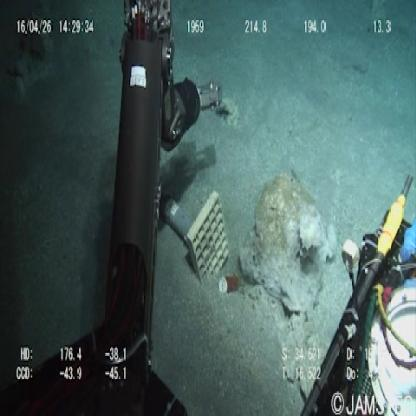Rov: (101, 1, 223, 393), (298, 169, 416, 414), (155, 186, 232, 286)
